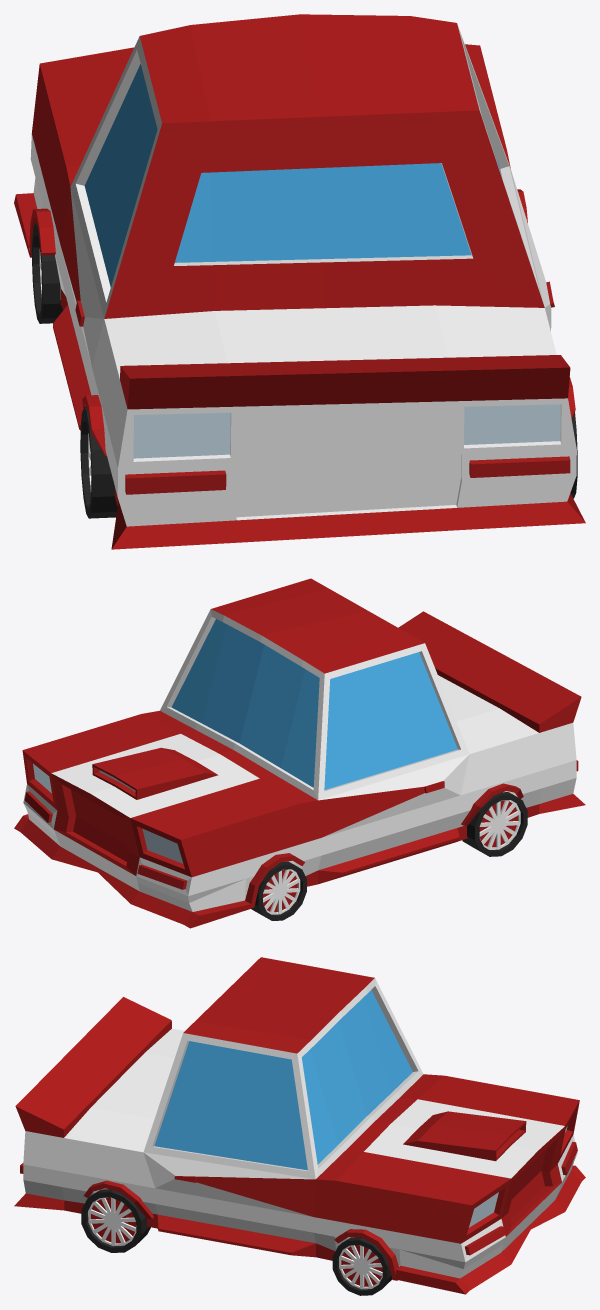
The model's file is Low-Poly-Racing-Car.obj.
3 views of the same model, one above another, from view 1: azimuth 30°, elevation 25°; view 2: azimuth 150°, elevation 25°; view 3: azimuth 270°, elevation 25° (orthographic). The views are drawn at different scales.
Visible parts, largest first — view 1: body, backlight_2, wheel.1, wheel1.1, front_fender, rear_fender_1; view 2: body, wheel.1, wheel1.1, headlight, front_fender, rear_fender_1; view 3: body, wheel.1, wheel1.1, front_fender, rear_fender_1, headlight.
Part boxes in pixels (<box>): body: <box>14,14,585,549</box>; backlight_2: <box>133,404,560,458</box>; wheel.1: <box>80,407,577,518</box>; wheel1.1: <box>32,222,63,323</box>; front_fender: <box>29,189,527,257</box>; rear_fender_1: <box>82,377,575,456</box>; body: <box>14,578,585,928</box>; wheel.1: <box>462,792,527,856</box>; wheel1.1: <box>251,861,306,920</box>; headlight: <box>33,763,183,863</box>; front_fender: <box>245,853,304,908</box>; rear_fender_1: <box>461,783,523,825</box>; body: <box>14,957,585,1294</box>; wheel.1: <box>81,1189,150,1252</box>; wheel1.1: <box>332,1237,392,1295</box>; front_fender: <box>334,1229,398,1280</box>; rear_fender_1: <box>83,1180,153,1219</box>; headlight: <box>469,1126,567,1227</box>.
Bounding box in the file's own units: 1.38 × 0.7091 × 1.69.
